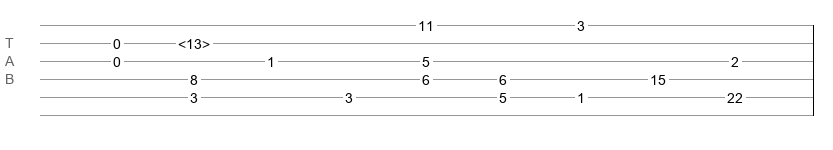0: (113, 54, 121, 64), (113, 36, 121, 46)
1: (267, 54, 275, 64), (577, 90, 585, 100)
11: (418, 18, 434, 28)
15: (650, 72, 666, 82)
2: (731, 54, 739, 64)
22: (727, 90, 743, 100)
3: (190, 90, 198, 100), (345, 90, 353, 100), (577, 18, 585, 28)
5: (422, 54, 430, 64), (499, 90, 507, 100)
6: (422, 72, 430, 82), (499, 72, 507, 82)
8: (190, 72, 198, 82)
harmonic: (178, 36, 210, 46)
